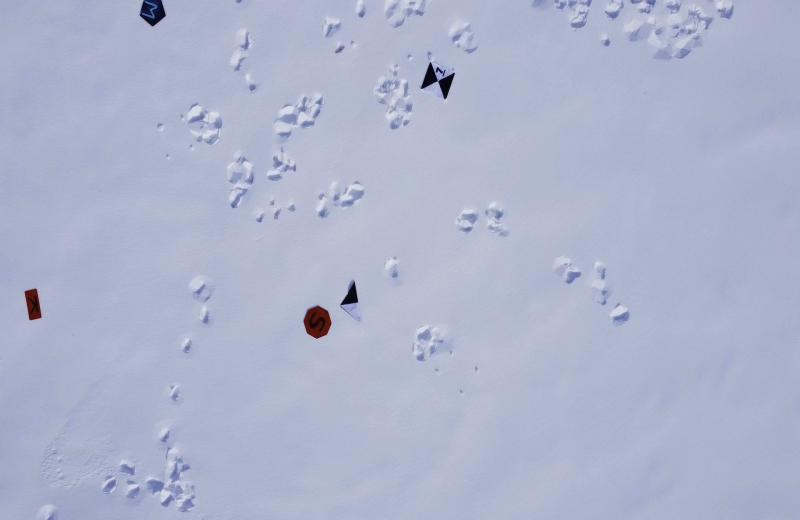Octagon: (301, 302, 335, 342)
Pentagon: (136, 0, 168, 29)
Rectangle: (20, 285, 44, 325)
